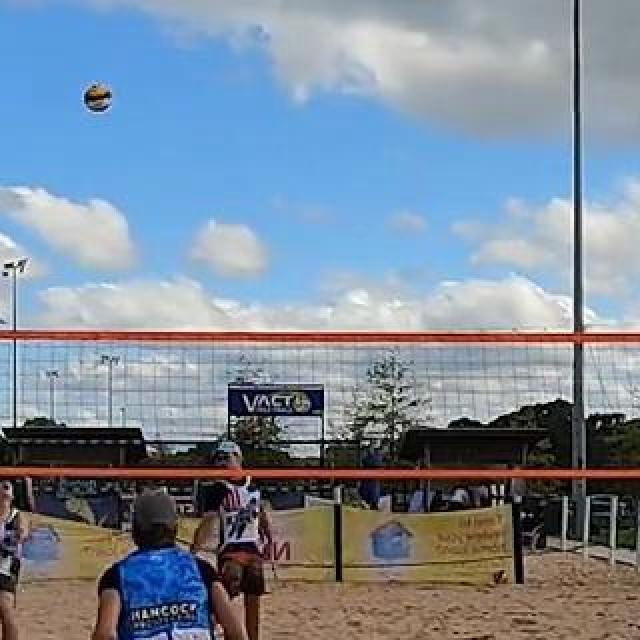volleyball: (84, 83, 112, 111), (493, 570, 511, 586)
